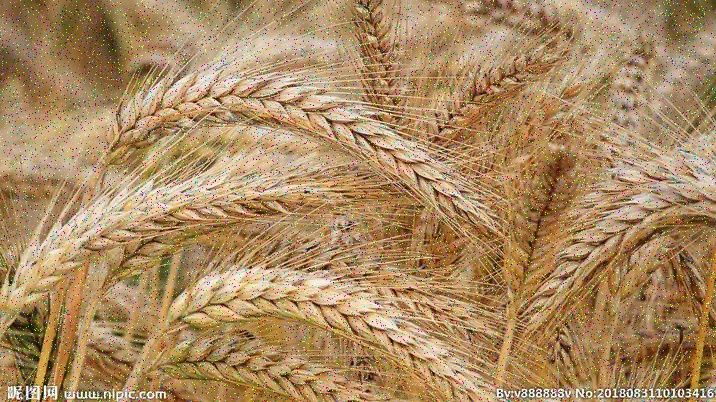wheat: (9, 161, 375, 309), (95, 77, 487, 215), (157, 267, 481, 401)
